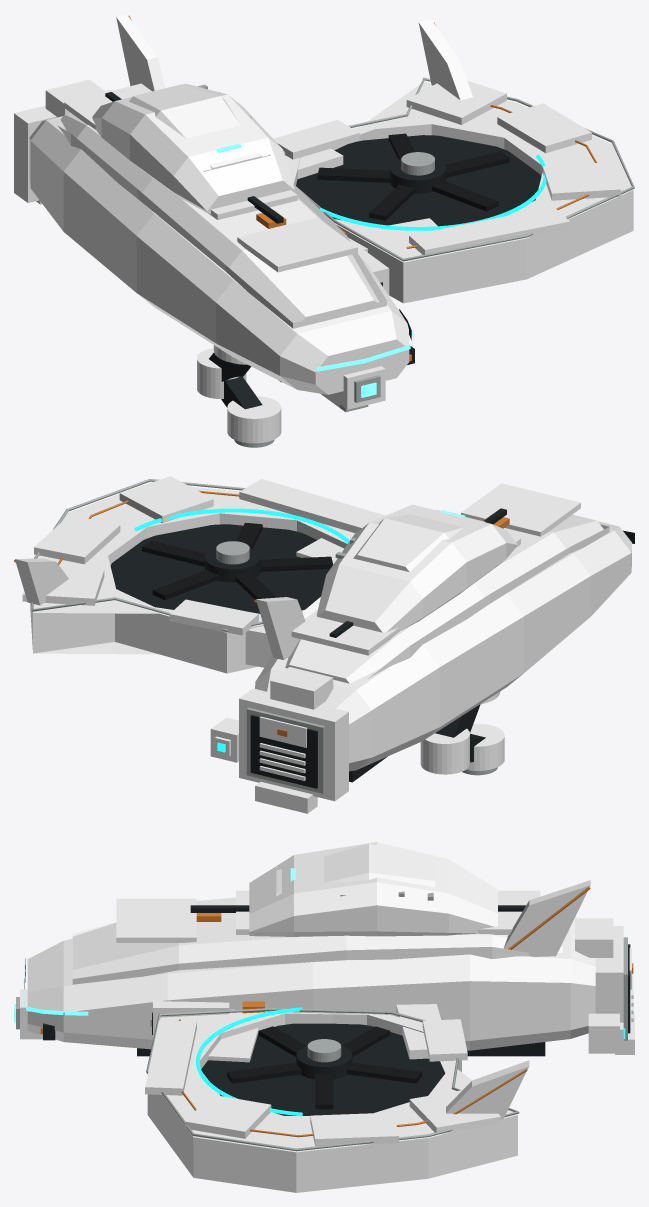
The model's file is morrowgear-family-a-engineer-v3.glb.
The picture shows the model from 3 angles, top to bottom: view 1: azimuth 30°, elevation 25°; view 2: azimuth 150°, elevation 25°; view 3: azimuth 270°, elevation 25°; orthographic projection.
Visible parts, largest first — view 1: F01_Fuselage, W02_DuctWing.R, F02_UpperArmor, ENG_PowerCowl, R02_InnerWell.R, F02_TopPanel_0, ENG_CowlArmor, W02_ArmorPanel_0.R, W02_ArmorPanel_2.R, W02_ArmorPanel_1.R, W02_ArmorPanel_3.R, W04_RearTipFairing.R (+19 smaller); view 2: F01_Fuselage, W02_DuctWing.R, ENG_PowerCowl, F02_UpperArmor, R02_InnerWell.R, V01_RearHousing, ENG_CowlArmor, F02_TopPanel_0, W02_ArmorPanel_0.R, W02_ArmorPanel_2.R, W02_ArmorPanel_1.R, V01_Recess (+23 smaller); view 3: F01_Fuselage, W02_DuctWing.R, ENG_PowerCowl, F02_UpperArmor, R02_InnerWell.R, ENG_CowlArmor, F02_TopPanel_0, T02_CenterFin.R, W02_ArmorPanel_0.R, W02_ArmorPanel_2.R, W02_ArmorPanel_1.R, W04_RearTipFairing.R (+23 smaller).
Part boxes in pixels (x1,y1,x2,y2): F01_Fuselage: (29, 116, 409, 394); W02_DuctWing.R: (285, 81, 633, 303); F02_UpperArmor: (57, 113, 386, 328); ENG_PowerCowl: (92, 83, 294, 214); R02_InnerWell.R: (296, 135, 541, 226); F02_TopPanel_0: (237, 217, 357, 272); ENG_CowlArmor: (129, 84, 270, 171); W02_ArmorPanel_0.R: (409, 207, 570, 254); W02_ArmorPanel_2.R: (497, 103, 591, 153); W02_ArmorPanel_1.R: (542, 162, 620, 200); W02_ArmorPanel_3.R: (406, 80, 506, 124); W04_RearTipFairing.R: (418, 19, 472, 100); F01_Fuselage: (255, 521, 631, 771); W02_DuctWing.R: (30, 482, 355, 673); ENG_PowerCowl: (316, 504, 517, 632); F02_UpperArmor: (285, 514, 609, 683); R02_InnerWell.R: (110, 524, 329, 613); V01_RearHousing: (239, 688, 348, 801); ENG_CowlArmor: (353, 510, 485, 572); F02_TopPanel_0: (461, 483, 580, 536); W02_ArmorPanel_0.R: (239, 479, 385, 533); W02_ArmorPanel_2.R: (34, 515, 120, 564); W02_ArmorPanel_1.R: (119, 476, 213, 523); V01_Recess: (250, 715, 317, 788); F01_Fuselage: (27, 920, 595, 1050); W02_DuctWing.R: (147, 1012, 517, 1192); ENG_PowerCowl: (249, 842, 497, 936); F02_UpperArmor: (72, 897, 562, 984); R02_InnerWell.R: (201, 1023, 445, 1115); ENG_CowlArmor: (276, 843, 435, 899); F02_TopPanel_0: (116, 898, 196, 942); T02_CenterFin.R: (503, 880, 590, 956); W02_ArmorPanel_0.R: (145, 1020, 196, 1095); W02_ArmorPanel_2.R: (310, 1112, 398, 1146); W02_ArmorPanel_1.R: (185, 1094, 271, 1138); W04_RearTipFairing.R: (446, 1060, 529, 1119).
Size of what is drawn, in the model's own units: 4.8 by 2.86 by 5.55.
